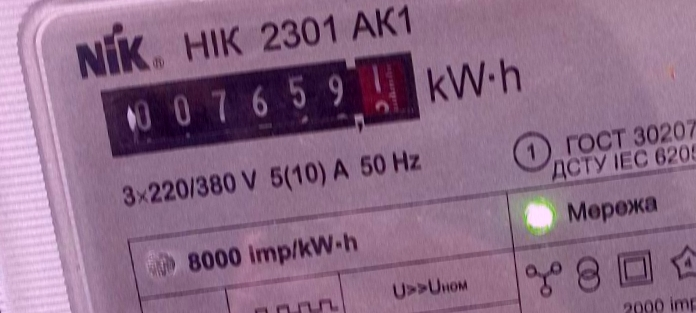0: (170, 89, 197, 129), (131, 94, 156, 135)
1: (368, 58, 388, 96)
5: (287, 72, 311, 110)
6: (248, 80, 273, 119)
7: (208, 85, 233, 125)
9: (325, 69, 350, 108)
screen: (91, 43, 433, 167)
